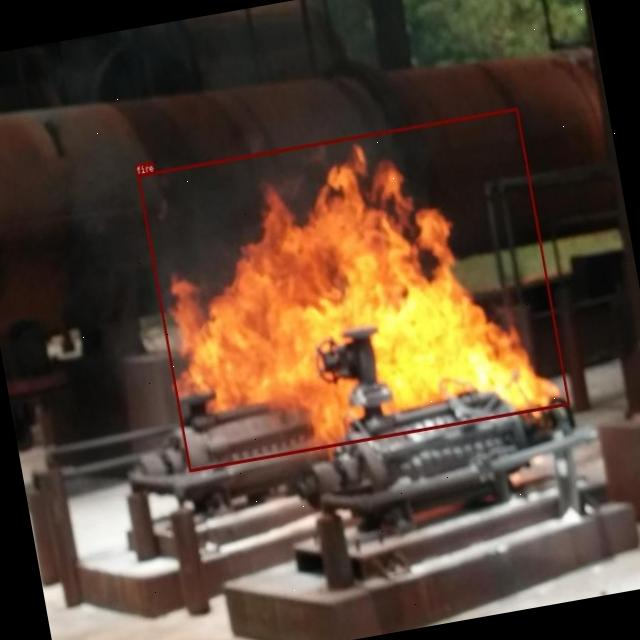fire: (136, 106, 570, 472)
